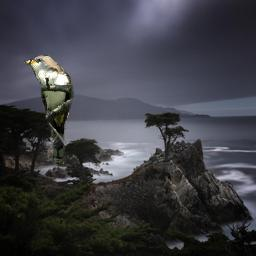Cuckoo: (22, 55, 74, 164)
